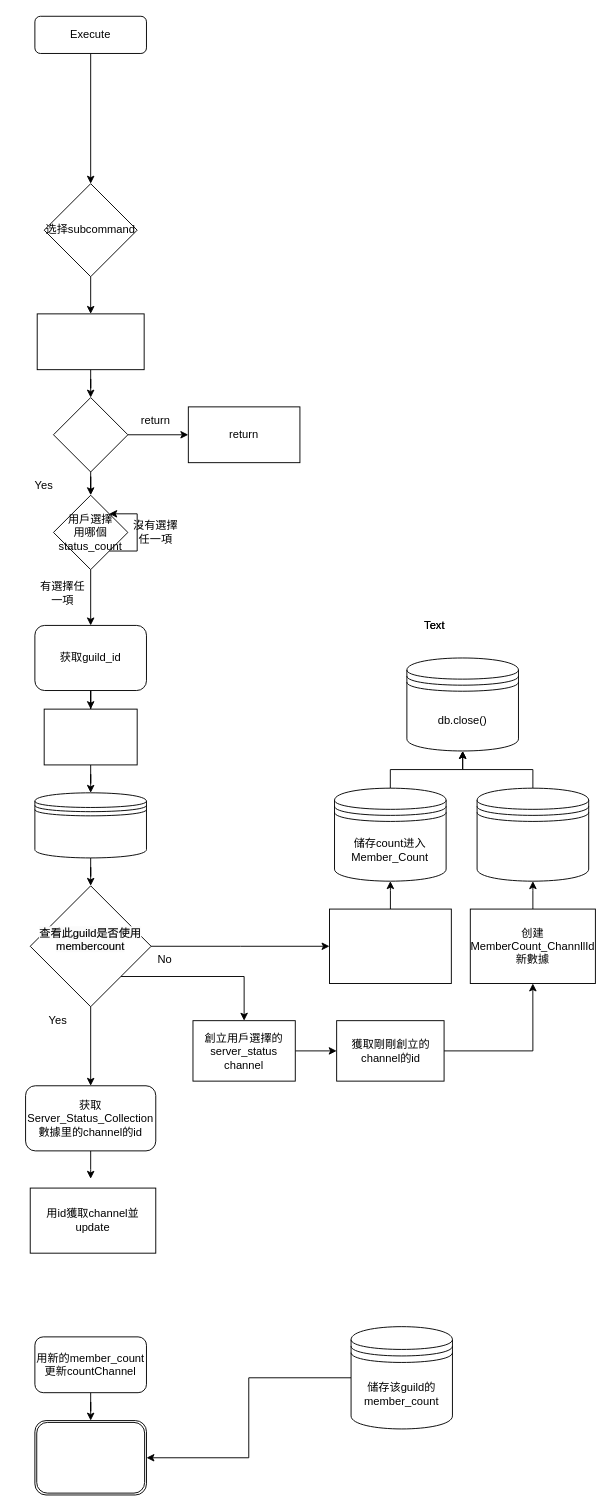
This 612x1511 diagram has some shape labels left out. Each missing label, with the box of its shape:
isUser?: (53, 397, 128, 472)
set: (36, 313, 144, 370)
储存id进入Server_Status_Collection: (476, 787, 589, 881)
创建Member_Count新數據: (329, 908, 451, 983)
打开sqlite: (34, 792, 146, 858)
獲取該群的member count: (43, 708, 137, 765)
结束: (34, 1420, 146, 1495)
